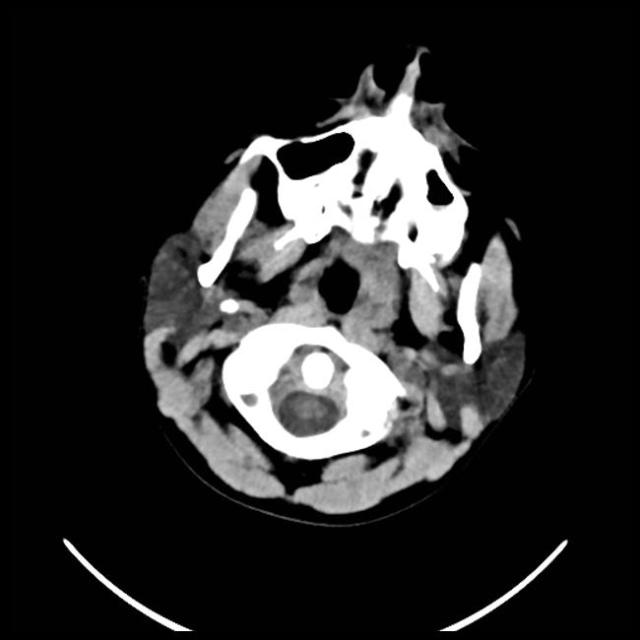lesion: (136, 41, 536, 521)
